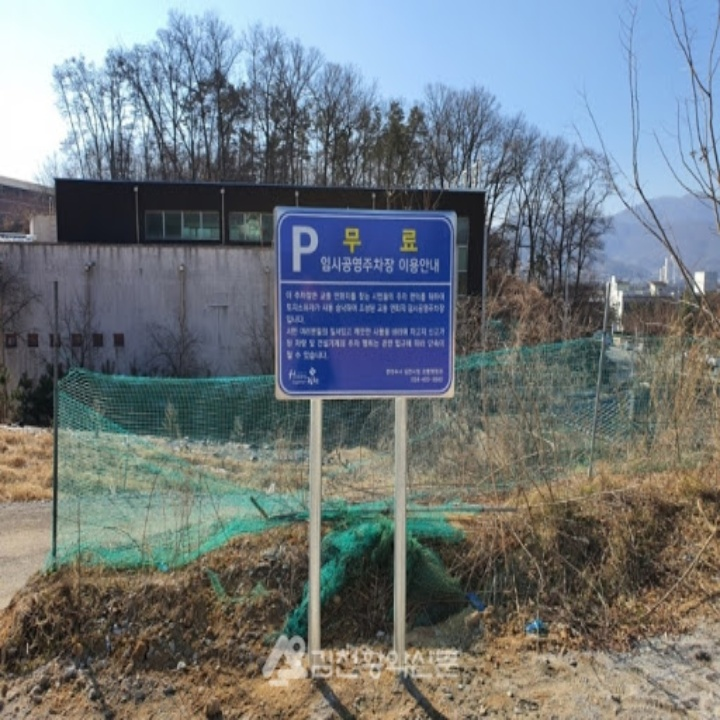park: (287, 220, 324, 279)
